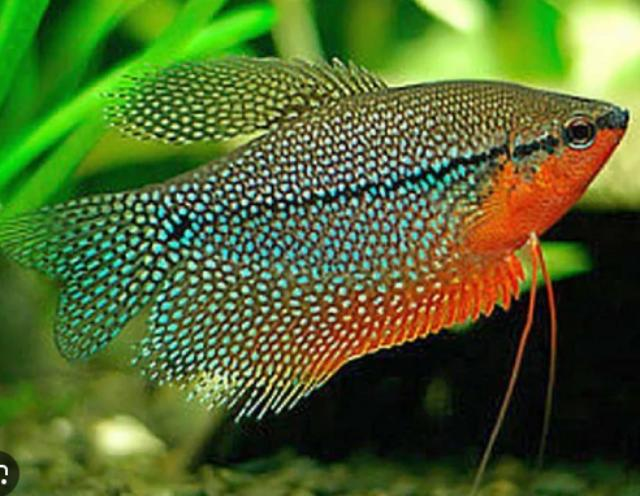Mulut: (536, 71, 640, 188)
Sirip Dada: (401, 148, 523, 261)
Sirip Ekor: (0, 170, 202, 380)
Sirip Punggung: (84, 38, 412, 150)
